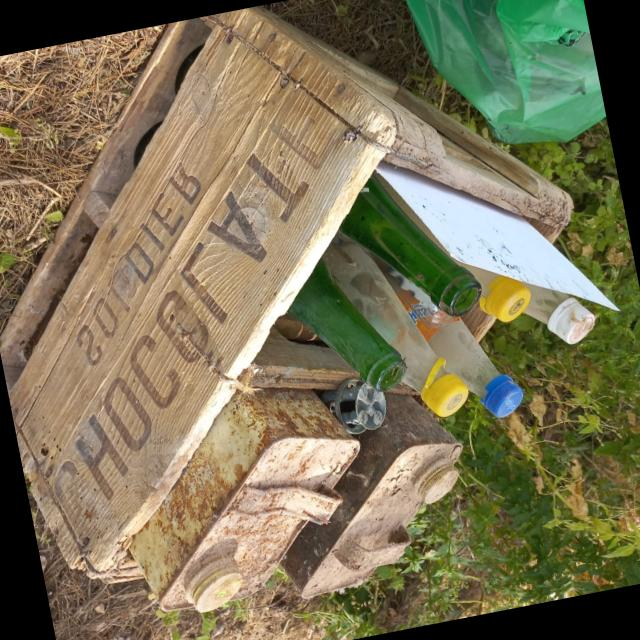Bottle: (366, 248, 526, 418), (323, 233, 469, 417), (337, 174, 481, 317), (286, 258, 407, 391), (524, 284, 595, 345), (464, 263, 531, 323)
Other litter: (0, 6, 575, 585), (127, 389, 364, 615), (279, 394, 465, 600), (376, 161, 621, 311), (238, 314, 357, 390), (461, 306, 497, 343), (387, 380, 422, 396)
Other plastic: (323, 378, 389, 438)
Plastic bag - wrapper: (406, 0, 606, 145)
